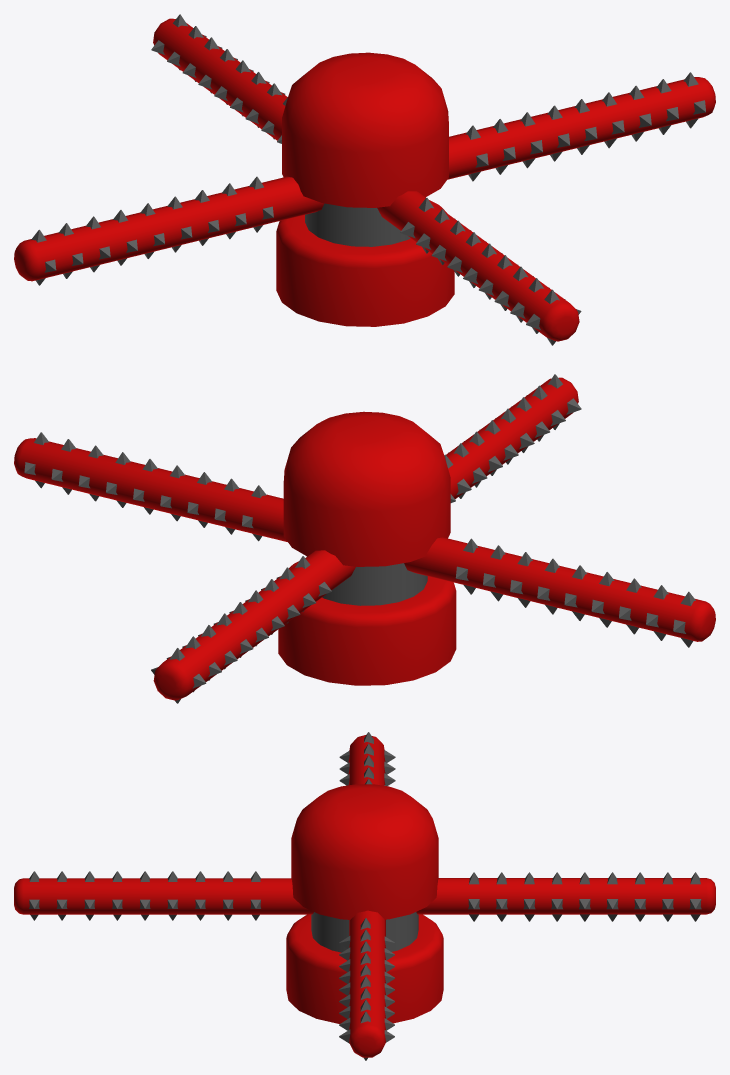
File: m_obscatle_4.fbx
3 views of the same model, one above another, from view 1: azimuth 30°, elevation 25°; view 2: azimuth 150°, elevation 25°; view 3: azimuth 270°, elevation 25° (orthographic). The views are drawn at different scales.
Parts seen in each view (by area): view 1: m_obscatle1, m_obscatle2; view 2: m_obscatle1, m_obscatle2; view 3: m_obscatle1, m_obscatle2.
Boxes of the visible parts, bbox=[...] form: m_obscatle1: bbox=[14, 14, 715, 345]; m_obscatle2: bbox=[276, 52, 454, 326]; m_obscatle1: bbox=[14, 374, 715, 703]; m_obscatle2: bbox=[278, 411, 456, 685]; m_obscatle1: bbox=[14, 732, 715, 1060]; m_obscatle2: bbox=[286, 784, 443, 1023].
Bounding box in the file's own units: 228 × 69.05 × 228.
